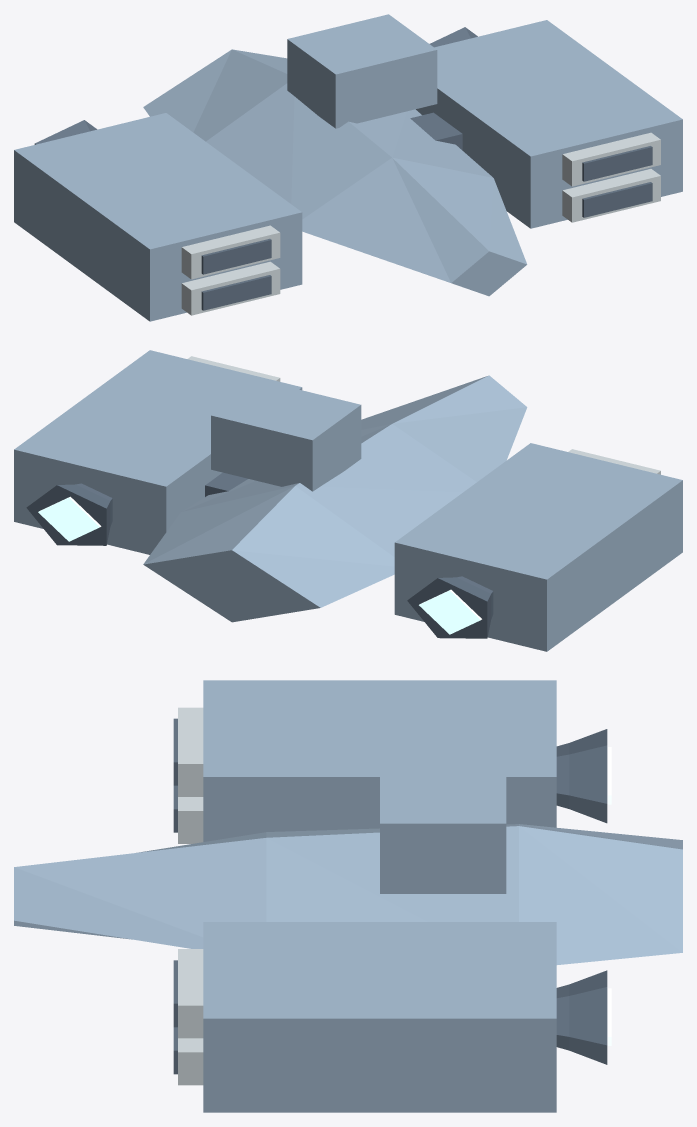
The picture shows the model from 3 angles, top to bottom: view 1: azimuth 30°, elevation 25°; view 2: azimuth 150°, elevation 25°; view 3: azimuth 270°, elevation 25°; orthographic projection. The views are drawn at different scales.
Bounding box in the file's own units: 11.15 × 3.07 × 9.32.
